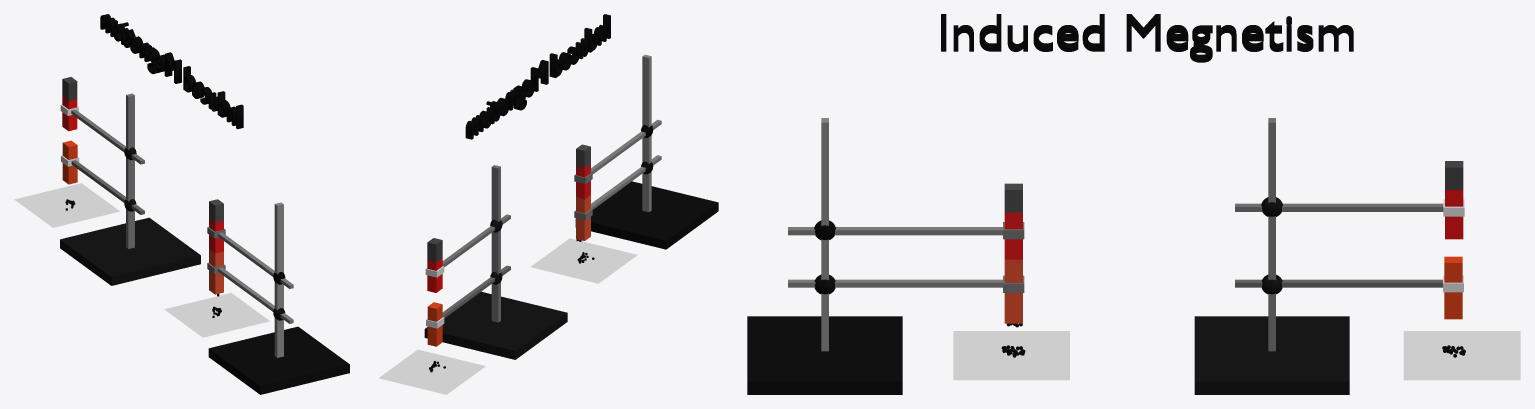
Rendered from Induced Magnetism.gltf.
The picture shows the model from 3 angles, left to right: view 1: azimuth 30°, elevation 25°; view 2: azimuth 150°, elevation 25°; view 3: azimuth 270°, elevation 25°; orthographic projection. The views are drawn at different scales.
Parts seen in each view (by area): view 1: Cube, Cube.009, Text, Plane.001, Plane, Cube.001, Cube.010, Cube.017, Cube.003, Cube.002, Cube.007, Cube.012 (+5 smaller); view 2: Cube, Cube.009, Text, Plane.001, Plane, Cube.001, Cube.010, Cube.017, Cube.007, Cube.003, Cube.002, Cube.012 (+5 smaller); view 3: Cube, Cube.009, Text, Plane.001, Plane, Cube.003, Cube.002, Cube.011, Cube.012, Cube.010, Cube.001, Cube.017 (+3 smaller).
Part boxes in pixels (bbox=[...]): Cube: bbox=[208, 326, 349, 394]; Cube.009: bbox=[60, 217, 200, 285]; Text: bbox=[100, 14, 243, 129]; Plane.001: bbox=[14, 183, 119, 227]; Plane: bbox=[164, 293, 269, 337]; Cube.001: bbox=[274, 202, 283, 357]; Cube.010: bbox=[126, 93, 134, 248]; Cube.017: bbox=[62, 140, 77, 184]; Cube.003: bbox=[218, 267, 293, 323]; Cube.002: bbox=[218, 232, 293, 288]; Cube.007: bbox=[209, 249, 223, 294]; Cube.012: bbox=[71, 160, 144, 214]; Cube: bbox=[575, 181, 718, 249]; Cube.009: bbox=[424, 291, 567, 359]; Text: bbox=[465, 14, 610, 139]; Plane.001: bbox=[379, 349, 485, 394]; Plane: bbox=[530, 238, 637, 283]; Cube.001: bbox=[642, 54, 651, 211]; Cube.010: bbox=[491, 165, 500, 322]; Cube.017: bbox=[427, 302, 442, 346]; Cube.007: bbox=[576, 194, 590, 240]; Cube.003: bbox=[591, 155, 661, 209]; Cube.002: bbox=[591, 119, 661, 174]; Cube.012: bbox=[442, 265, 510, 318]; Cube: bbox=[747, 316, 902, 394]; Cube.009: bbox=[1194, 316, 1349, 394]; Text: bbox=[941, 14, 1353, 62]; Plane.001: bbox=[1403, 331, 1520, 380]; Plane: bbox=[953, 331, 1069, 380]; Cube.003: bbox=[788, 279, 1002, 287]; Cube.002: bbox=[788, 227, 1002, 235]; Cube.011: bbox=[1235, 203, 1443, 211]; Cube.012: bbox=[1235, 279, 1442, 287]; Cube.010: bbox=[1268, 118, 1275, 351]; Cube.001: bbox=[821, 118, 828, 351]; Cube.017: bbox=[1444, 256, 1462, 319].
Bounding box in the file's own units: 0.9993 × 2.46 × 4.98.
